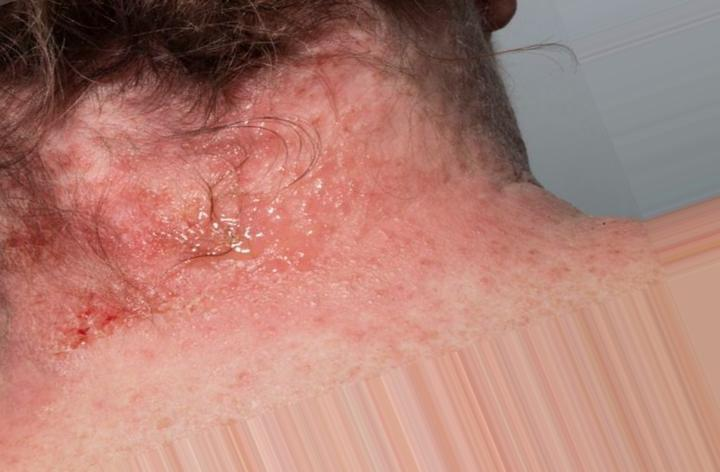Contact Dermatitis: (38, 36, 472, 284)
